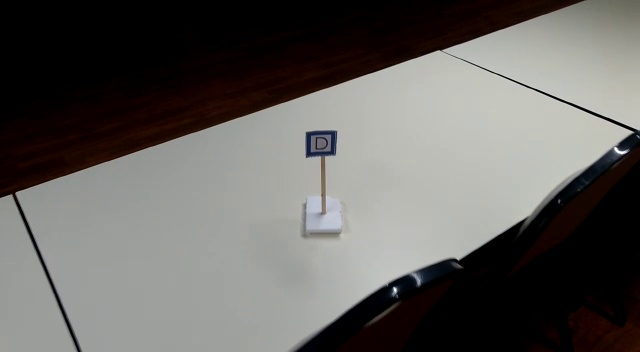durak: (306, 129, 337, 158)
